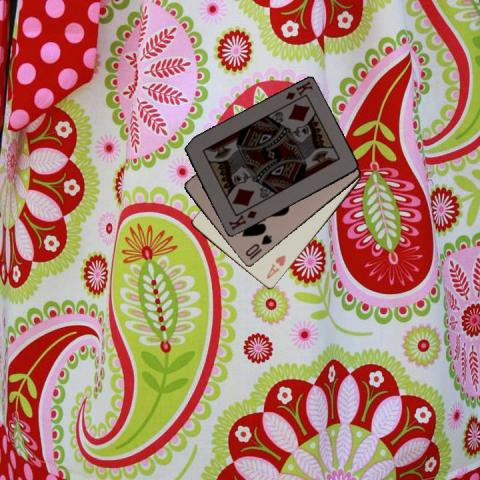10s: (243, 232, 273, 258)
Ah: (264, 252, 288, 281)
Kd: (282, 78, 315, 107), (225, 208, 259, 232)
